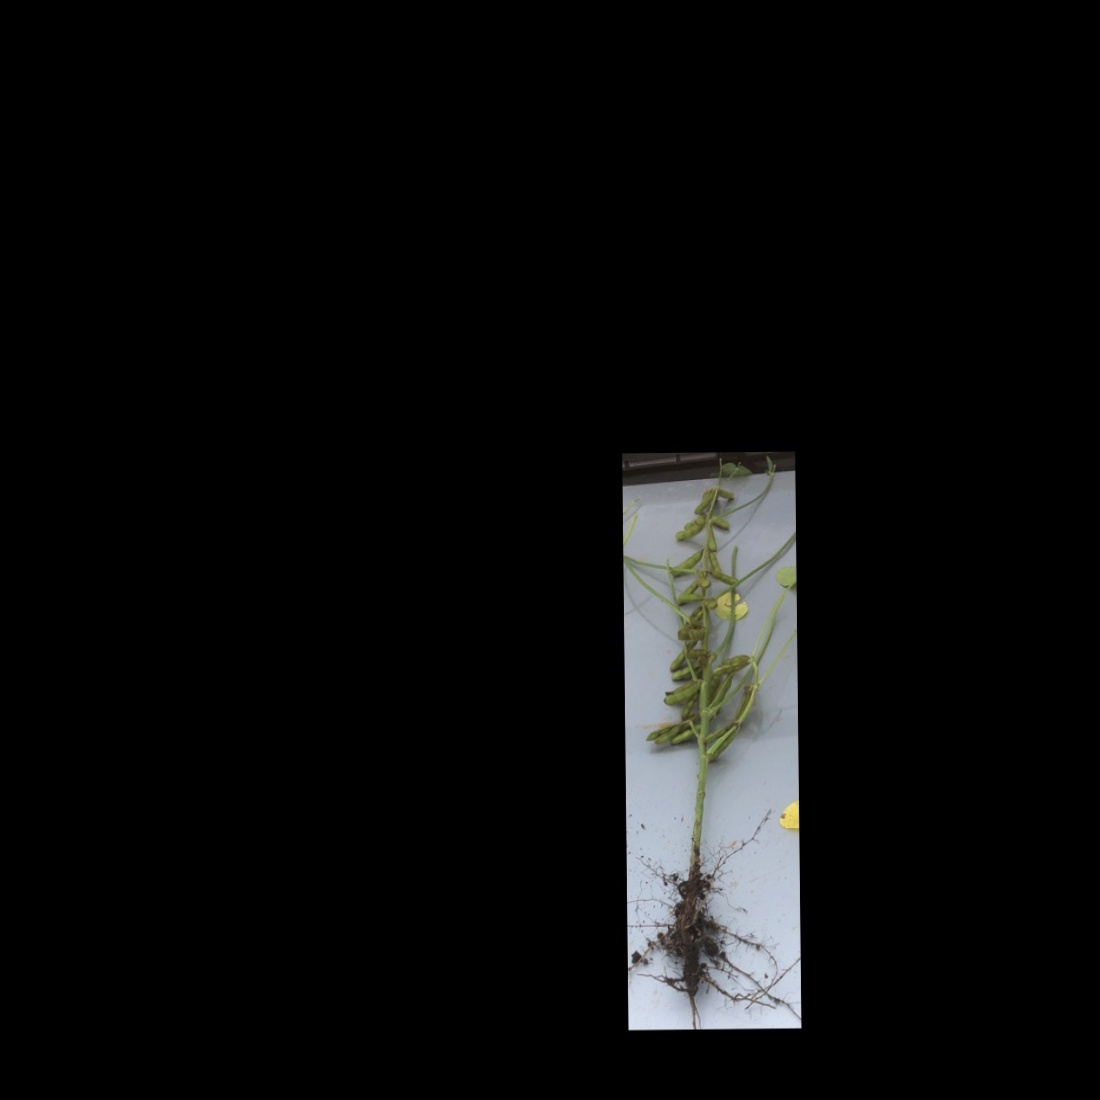pod: (667, 547, 707, 576), (673, 519, 709, 540), (679, 690, 701, 723), (669, 724, 701, 746), (706, 568, 740, 587), (693, 489, 716, 516), (709, 511, 732, 531), (715, 485, 737, 501), (708, 550, 722, 574), (707, 529, 718, 551)
soy: (631, 458, 788, 1005)
